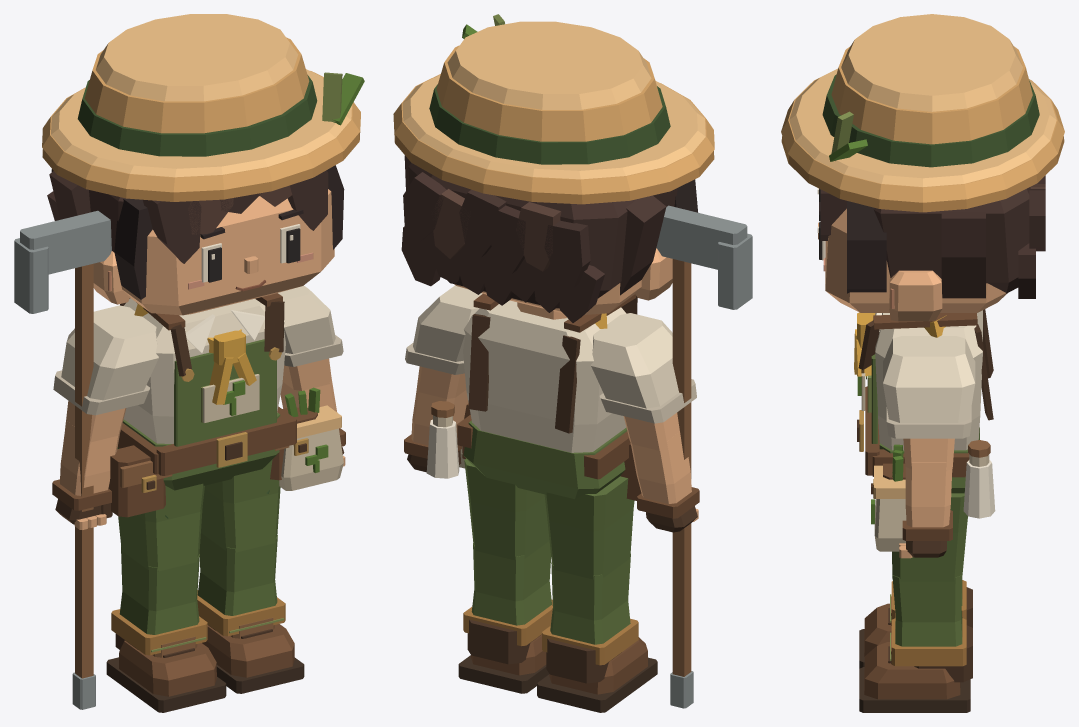
Rendered from farm_steward.glb.
The picture shows the model from 3 angles, left to right: view 1: azimuth 30°, elevation 25°; view 2: azimuth 150°, elevation 25°; view 3: azimuth 270°, elevation 25°; orthographic projection.
Parts seen in each view (by area): view 1: farm_steward__Hat_farm_steward_straw_light, farm_steward__Head_farm_steward_skin, farm_steward__Hat_farm_steward_straw, farm_steward__Head_farm_steward_hair, farm_steward__Hoe_farm_steward_silver, farm_steward__Hoe_farm_steward_leather_light, farm_steward__Hat_farm_steward_green_dark, farm_steward__UtilityBelt_farm_steward_leather, farm_steward__Arm_L_farm_steward_shirt, farm_steward__Spine_farm_steward_shirt, farm_steward__Thigh_R_farm_steward_denim, farm_steward__Spine_farm_steward_denim (+37 smaller); view 2: farm_steward__Head_farm_steward_hair, farm_steward__Hat_farm_steward_straw_light, farm_steward__Spine_farm_steward_shirt, farm_steward__Hat_farm_steward_straw, farm_steward__Thigh_L_farm_steward_denim, farm_steward__Hoe_farm_steward_silver, farm_steward__Arm_L_farm_steward_shirt, farm_steward__Hoe_farm_steward_leather_light, farm_steward__Hips_farm_steward_denim, farm_steward__Hat_farm_steward_green_dark, farm_steward__Thigh_R_farm_steward_denim, farm_steward__Shin_L_farm_steward_denim (+27 smaller); view 3: farm_steward__Hat_farm_steward_straw_light, farm_steward__Head_farm_steward_hair, farm_steward__Hat_farm_steward_straw, farm_steward__Arm_R_farm_steward_shirt, farm_steward__Head_farm_steward_skin, farm_steward__Hat_farm_steward_green_dark, farm_steward__Shin_R_farm_steward_denim, farm_steward__Foot_R_farm_steward_leather, farm_steward__Head_farm_steward_hair_dark, farm_steward__Spine_farm_steward_shirt, farm_steward__Forearm_R_farm_steward_skin, farm_steward__Hat_farm_steward_straw_shadow (+20 smaller).
Part boxes in pixels (x1,y1,x2,y2): farm_steward__Hat_farm_steward_straw_light: [51, 14, 351, 177]; farm_steward__Head_farm_steward_skin: [93, 189, 334, 315]; farm_steward__Hat_farm_steward_straw: [42, 37, 360, 192]; farm_steward__Head_farm_steward_hair: [47, 169, 328, 263]; farm_steward__Hoe_farm_steward_silver: [14, 210, 111, 709]; farm_steward__Hoe_farm_steward_leather_light: [75, 263, 93, 678]; farm_steward__Hat_farm_steward_green_dark: [77, 75, 317, 156]; farm_steward__UtilityBelt_farm_steward_leather: [108, 407, 317, 517]; farm_steward__Arm_L_farm_steward_shirt: [61, 305, 158, 400]; farm_steward__Spine_farm_steward_shirt: [123, 298, 285, 443]; farm_steward__Thigh_R_farm_steward_denim: [201, 459, 280, 552]; farm_steward__Spine_farm_steward_denim: [174, 339, 276, 446]; farm_steward__Head_farm_steward_hair: [401, 155, 677, 322]; farm_steward__Hat_farm_steward_straw_light: [402, 21, 705, 179]; farm_steward__Spine_farm_steward_shirt: [463, 300, 626, 452]; farm_steward__Hat_farm_steward_straw: [393, 45, 714, 194]; farm_steward__Thigh_L_farm_steward_denim: [544, 476, 634, 579]; farm_steward__Hoe_farm_steward_silver: [656, 205, 752, 708]; farm_steward__Arm_L_farm_steward_shirt: [591, 313, 678, 408]; farm_steward__Hoe_farm_steward_leather_light: [672, 259, 691, 676]; farm_steward__Hips_farm_steward_denim: [463, 421, 627, 499]; farm_steward__Hat_farm_steward_green_dark: [429, 84, 670, 164]; farm_steward__Thigh_R_farm_steward_denim: [464, 458, 549, 560]; farm_steward__Shin_L_farm_steward_denim: [550, 554, 630, 644]; farm_steward__Hat_farm_steward_straw_light: [789, 14, 1056, 186]; farm_steward__Head_farm_steward_hair: [820, 175, 1045, 298]; farm_steward__Hat_farm_steward_straw: [781, 46, 1064, 202]; farm_steward__Arm_R_farm_steward_shirt: [883, 336, 975, 422]; farm_steward__Head_farm_steward_skin: [818, 208, 1007, 321]; farm_steward__Hat_farm_steward_green_dark: [822, 74, 1039, 167]; farm_steward__Shin_R_farm_steward_denim: [892, 575, 962, 646]; farm_steward__Foot_R_farm_steward_leather: [864, 642, 960, 699]; farm_steward__Head_farm_steward_hair_dark: [819, 201, 886, 293]; farm_steward__Spine_farm_steward_shirt: [875, 310, 982, 450]; farm_steward__Forearm_R_farm_steward_skin: [905, 462, 952, 527]; farm_steward__Hat_farm_steward_straw_shadow: [781, 136, 1064, 212].
Size of the model in its own units: 0.9276 by 1.67 by 0.6894.
